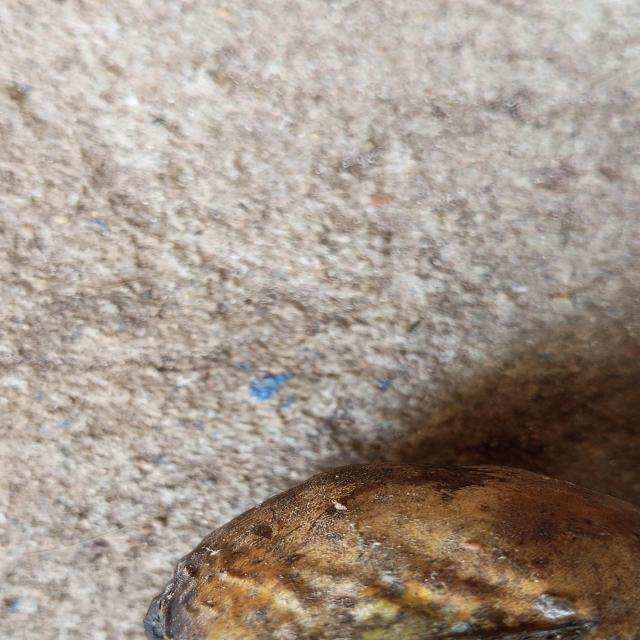damaged: (143, 462, 640, 640)
